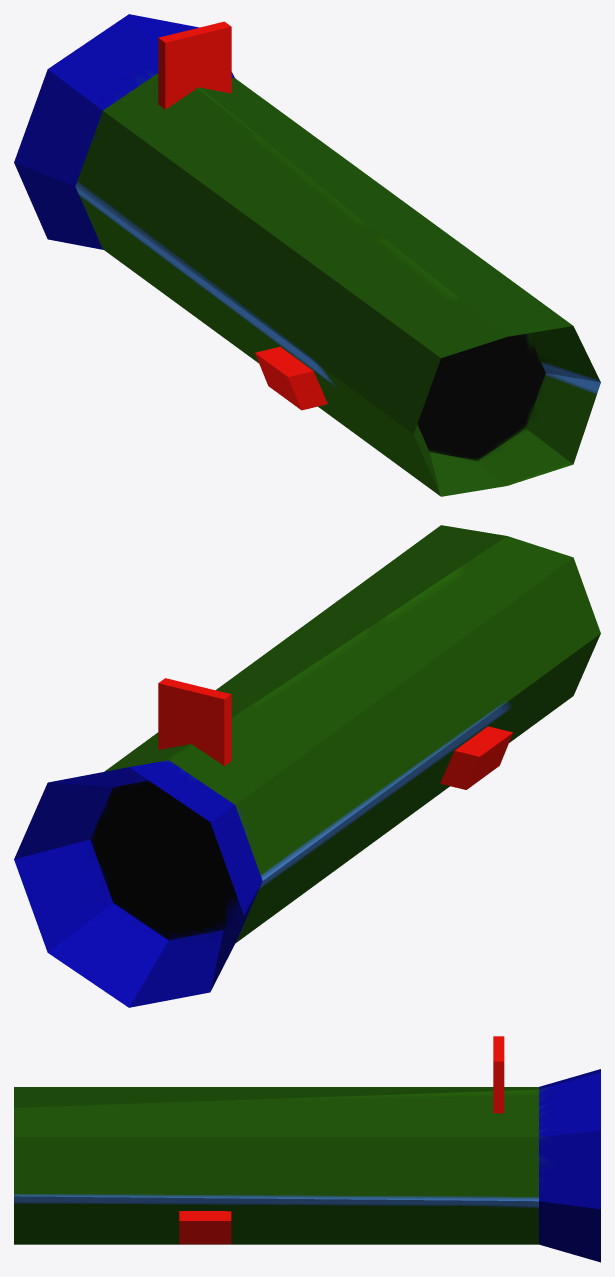
The model's file is bazooka.fbx.
The picture shows the model from 3 angles, top to bottom: view 1: azimuth 30°, elevation 25°; view 2: azimuth 150°, elevation 25°; view 3: azimuth 270°, elevation 25°; orthographic projection. The views are drawn at different scales.
Parts seen in each view (by area): view 1: Cylinder; view 2: Cylinder; view 3: Cylinder.
Part boxes in pixels (box(x1,y1,x2,y2)): Cylinder: box(14, 14, 600, 496); Cylinder: box(14, 525, 600, 1007); Cylinder: box(14, 1036, 600, 1262).
Bounding box in the file's own units: 136 × 387 × 153.
